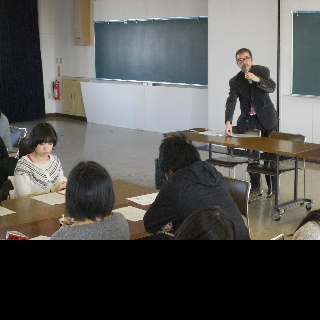without_mask: (33, 137, 53, 156), (236, 48, 253, 70)
